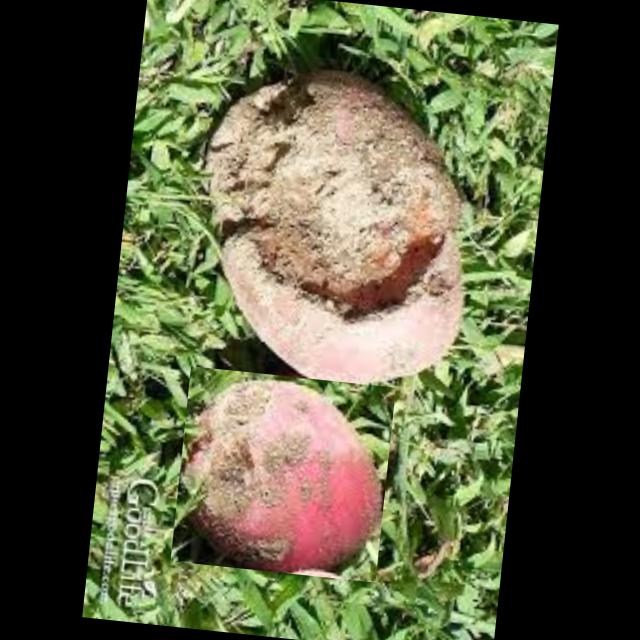Damaged potato: (194, 49, 486, 396)
Diseased-fungal potato: (170, 365, 396, 581)
